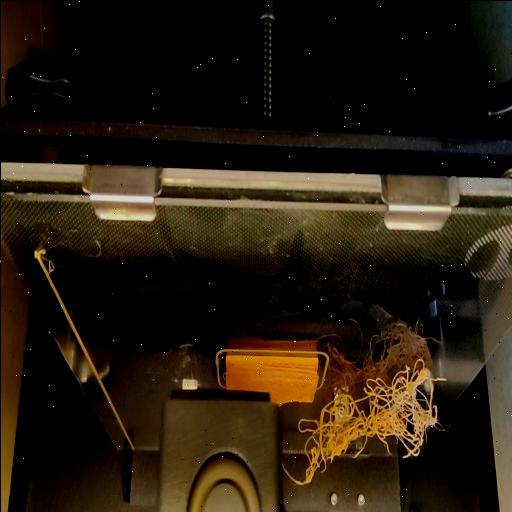spaghetti: (288, 364, 446, 488)
